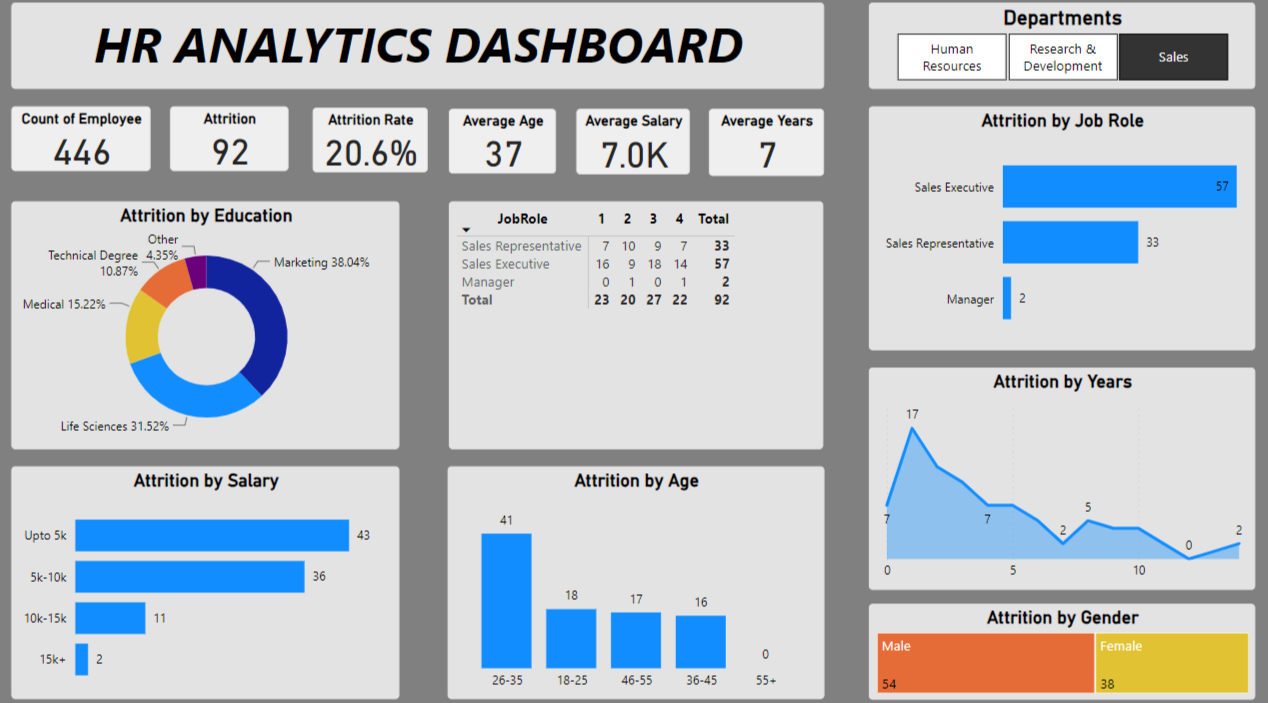

This screenshot's page, from the dashboard's own definition file:
{"tool":"powerbi","page":{"name":"Page 1","canvas":[1280,720],"ordinal":0},"visuals":[{"type":"card","title":"Count of Employee","fields":{"Values":["CountNonNull(HR_Analytics.EmpID)"]},"box":[17,113.8,139.4,64.9],"z":0},{"type":"card","title":"Attrition","fields":{"Values":["Sum(HR_Analytics.AttritionCount)"]},"box":[176.6,113.8,118.1,64.9],"z":1000},{"type":"card","title":"Attrition Rate","fields":{"Values":["HR_Analytics.AttritionRate"]},"box":[319.1,114.9,114.9,64.9],"z":2000},{"type":"card","title":"Average Age ","fields":{"Values":["Avg(HR_Analytics.Age)"]},"box":[455.3,116,107.4,64.9],"z":3000},{"type":"card","title":"Average Salary","fields":{"Values":["Avg(HR_Analytics.MonthlyIncome)"]},"box":[583,116,113.8,66],"z":4000},{"type":"card","title":"Average Years ","fields":{"Values":["Avg(HR_Analytics.YearsAtCompany)"]},"box":[714.9,116,114.9,67],"z":5000},{"type":"donutChart","title":"Attrition by Education","fields":{"Category":["HR_Analytics.EducationField"],"Y":["Sum(HR_Analytics.AttritionCount)"]},"box":[17,208.5,388.3,247.9],"z":6000},{"type":"columnChart","title":"Attrition by Age","fields":{"Category":["HR_Analytics.AgeGroup"],"Y":["Sum(HR_Analytics.AttritionCount)"]},"box":[453.2,473.4,376.6,233],"z":7000},{"type":"pivotTable","fields":{"Rows":["HR_Analytics.JobRole"],"Columns":["HR_Analytics.JobSatisfaction"],"Values":["Sum(HR_Analytics.AttritionCount)"]},"box":[455.3,208.5,374.5,247.9],"z":8000},{"type":"barChart","title":"Attrition by Salary","fields":{"Category":["HR_Analytics.SalarySlab"],"Y":["Sum(HR_Analytics.AttritionCount)"]},"box":[17,473.4,388.3,233],"z":9000},{"type":"barChart","title":"Attrition by Job Role","fields":{"Category":["HR_Analytics.JobRole"],"Y":["Sum(HR_Analytics.AttritionCount)"]},"box":[875.5,113.8,386.2,243.6],"z":10000},{"type":"areaChart","title":"Attrition by Years","fields":{"Category":["HR_Analytics.YearsAtCompany"],"Y":["Sum(HR_Analytics.AttritionCount)"]},"box":[875,375,386.2,222.5],"z":11000},{"type":"treemap","title":"Attrition by Gender","fields":{"Group":["HR_Analytics.Gender"],"Values":["Sum(HR_Analytics.AttritionCount)"]},"box":[875.5,610.6,386.2,95.7],"z":12000},{"type":"slicer","title":"Departments","fields":{"Values":["HR_Analytics.Department"]},"box":[875.5,9.6,386.2,86.2],"z":13000},{"type":"textbox","box":[17,9.6,812.8,86.2],"z":14000}]}

Visuals, with their boxes in screenshot pixels (x1, y1, x2, y2), scaled from the page's 1280x720 canvas onto the 1268x703 screenshot:
"Count of Employee" card: 17 111 155 174
"Attrition" card: 175 111 292 174
"Attrition Rate" card: 316 112 430 176
"Average Age " card: 451 113 557 177
"Average Salary" card: 578 113 690 178
"Average Years " card: 708 113 822 179
"Attrition by Education" donutChart: 17 204 402 446
"Attrition by Age" columnChart: 449 462 822 690
pivotTable - HR_Analytics.JobRole x HR_Analytics.JobSatisfaction: 451 204 822 446
"Attrition by Salary" barChart: 17 462 402 690
"Attrition by Job Role" barChart: 867 111 1250 349
"Attrition by Years" areaChart: 867 366 1249 583
"Attrition by Gender" treemap: 867 596 1250 690
"Departments" slicer: 867 9 1250 94
textbox: 17 9 822 94
